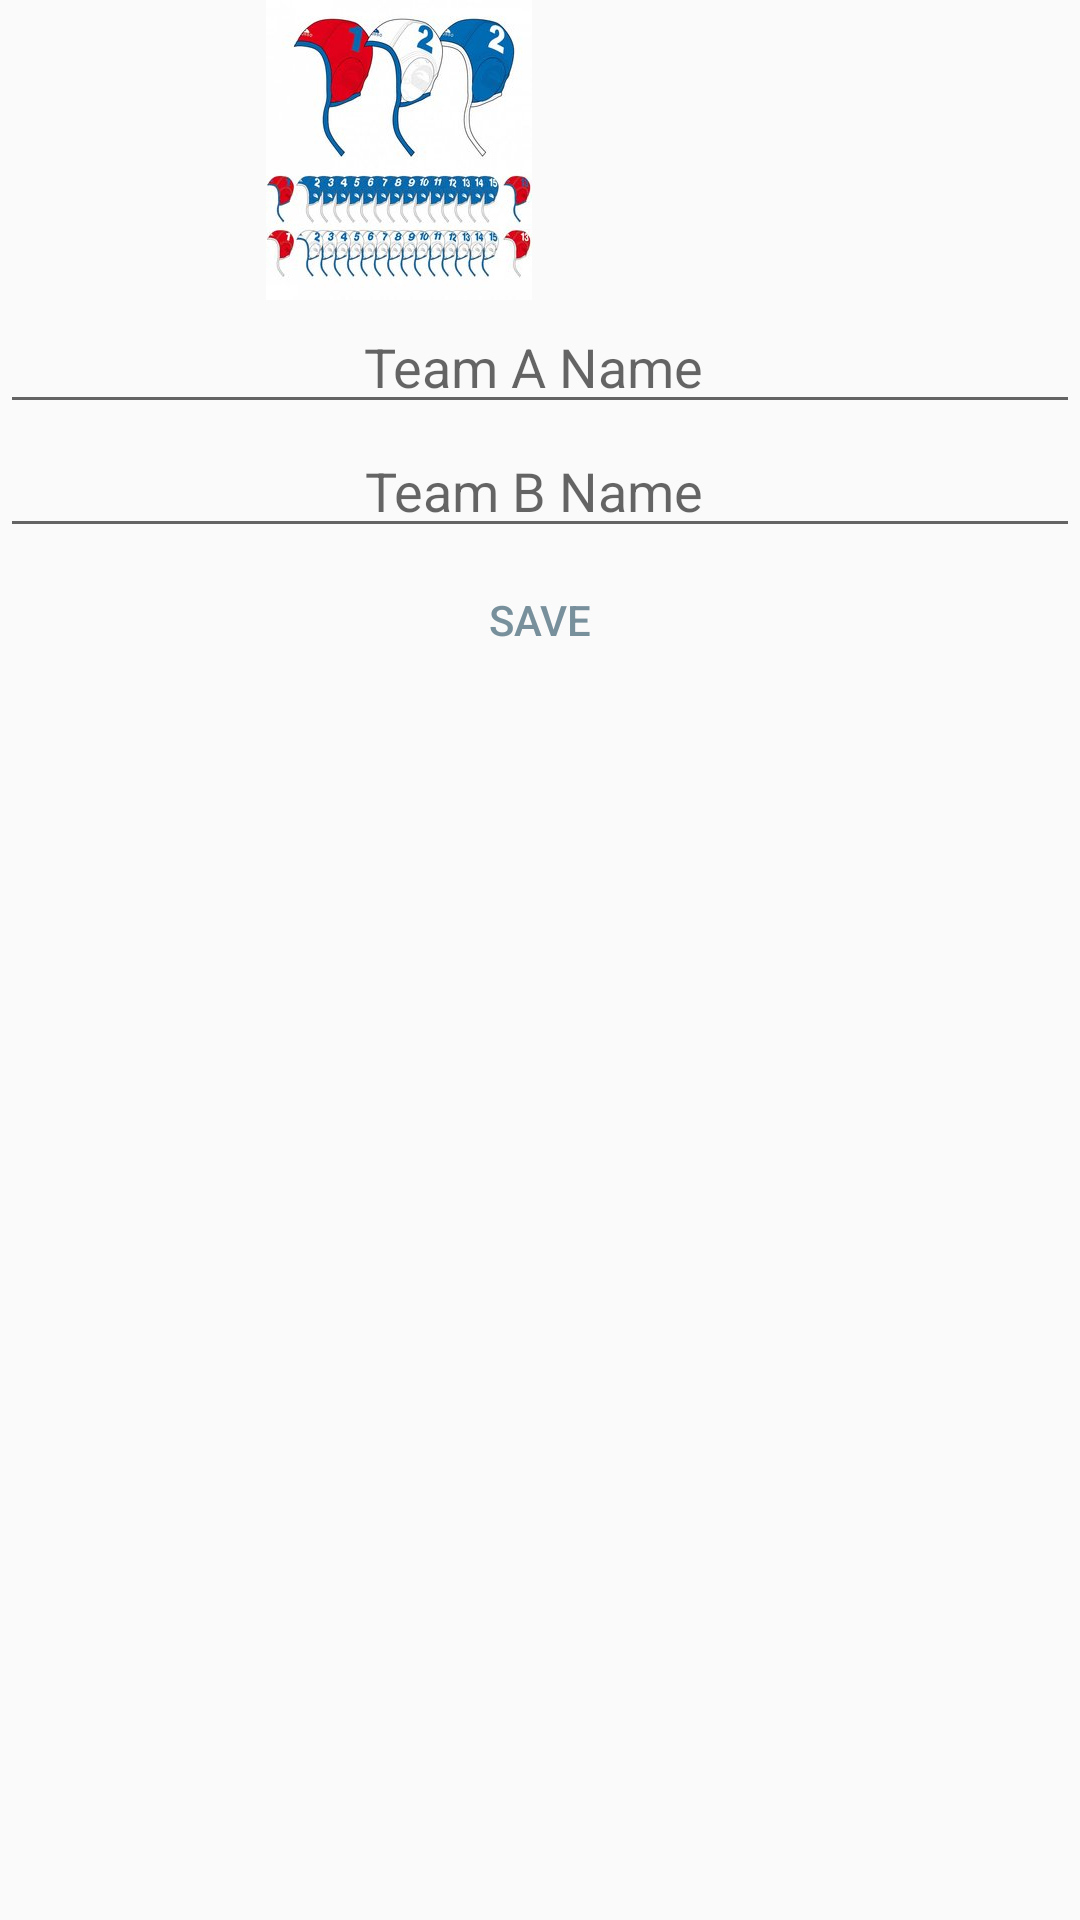

Icon bounding boxes for this 1080w x 1920h phone screenshot, format (x1, y1, x2, y2):
waterpolocaps: (267, 18, 531, 277)
